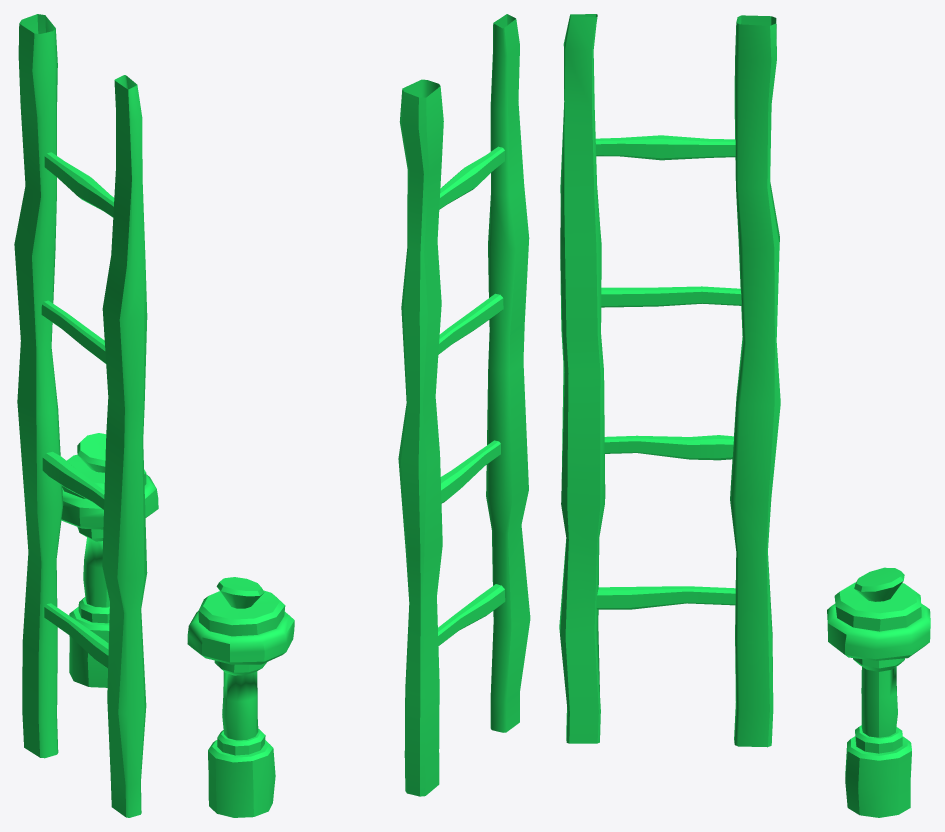
File: mc_side_right_int_ladder_lod01.FBX
3 renders of one model, left to right at view 1: azimuth 30°, elevation 25°; view 2: azimuth 150°, elevation 25°; view 3: azimuth 270°, elevation 25°, orthographic. The views are drawn at different scales.
Visible parts, largest first — view 1: mc_side_right_int_ladder; view 2: mc_side_right_int_ladder; view 3: mc_side_right_int_ladder.
Part boxes in pixels (left/top/right/bottom): mc_side_right_int_ladder: left=14, top=14, right=158, bottom=817; mc_side_right_int_ladder: left=187, top=14, right=530, bottom=817; mc_side_right_int_ladder: left=559, top=14, right=930, bottom=817.
Size of the model in its own units: 6.56 by 24.31 by 11.22.
